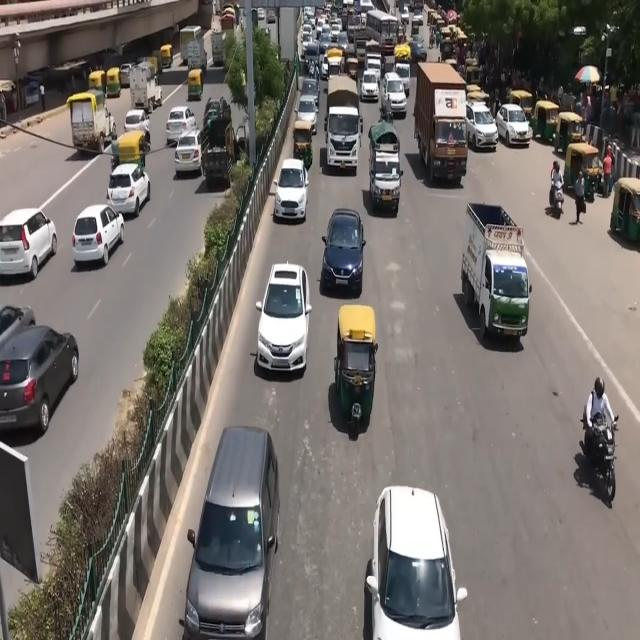auto: (335, 304, 379, 431), (609, 177, 640, 244), (565, 142, 602, 198), (110, 130, 147, 176), (554, 110, 584, 158), (532, 100, 560, 144), (292, 118, 315, 170), (187, 67, 203, 101), (88, 70, 106, 98), (464, 56, 482, 84), (106, 68, 121, 98), (160, 44, 173, 70)
bike-auto: (576, 377, 616, 523), (550, 160, 563, 210)
